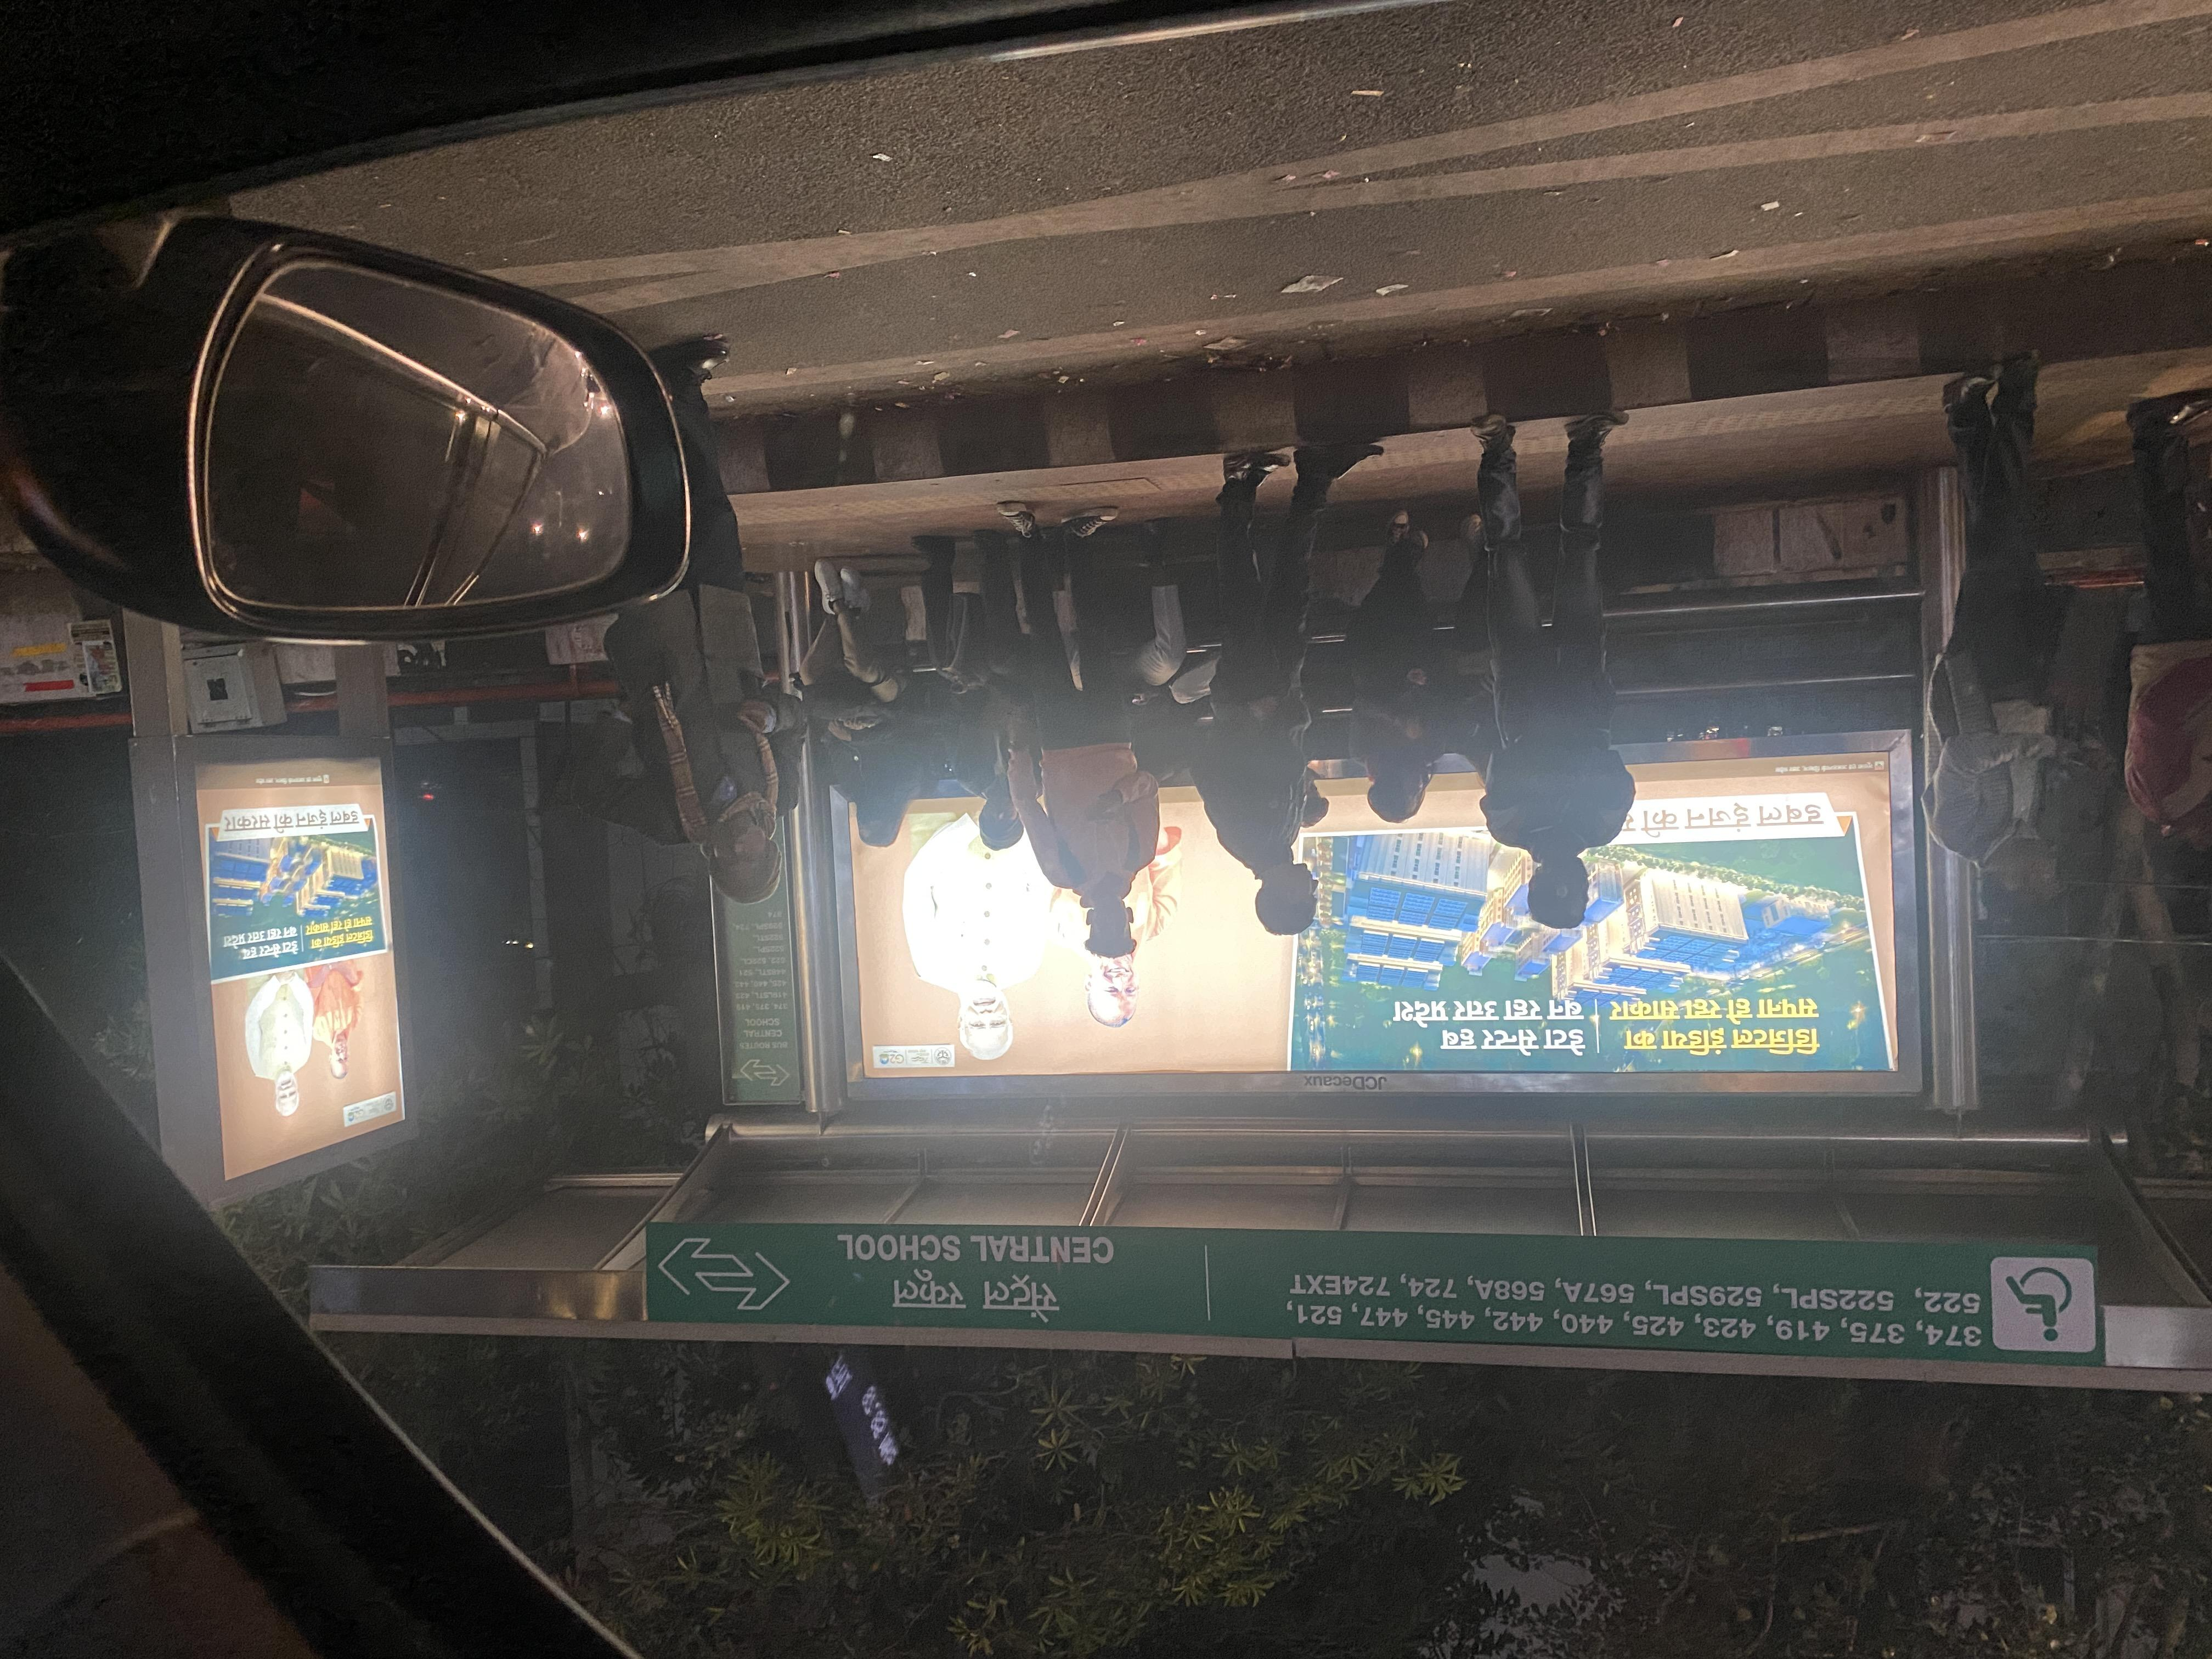Bus-stop-board: (615, 1213, 2113, 1420)
